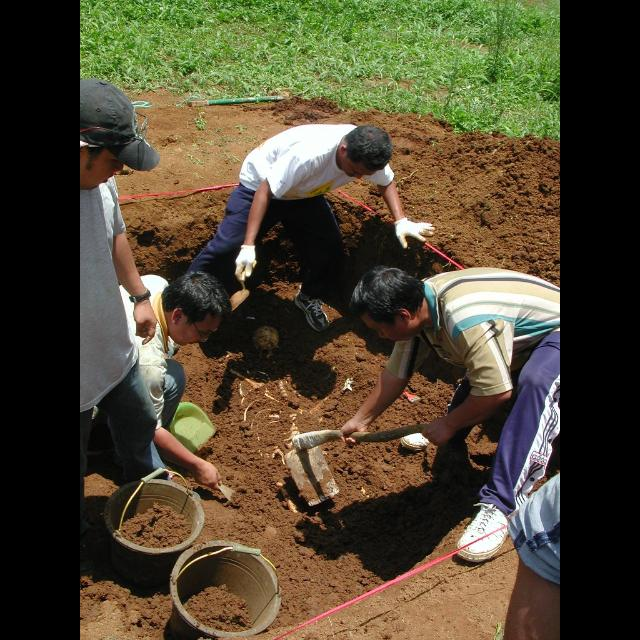head: (80, 82, 136, 194), (353, 266, 427, 342), (168, 271, 228, 349), (338, 125, 394, 181)
person: (80, 74, 208, 564), (166, 120, 440, 334), (80, 268, 234, 498)
